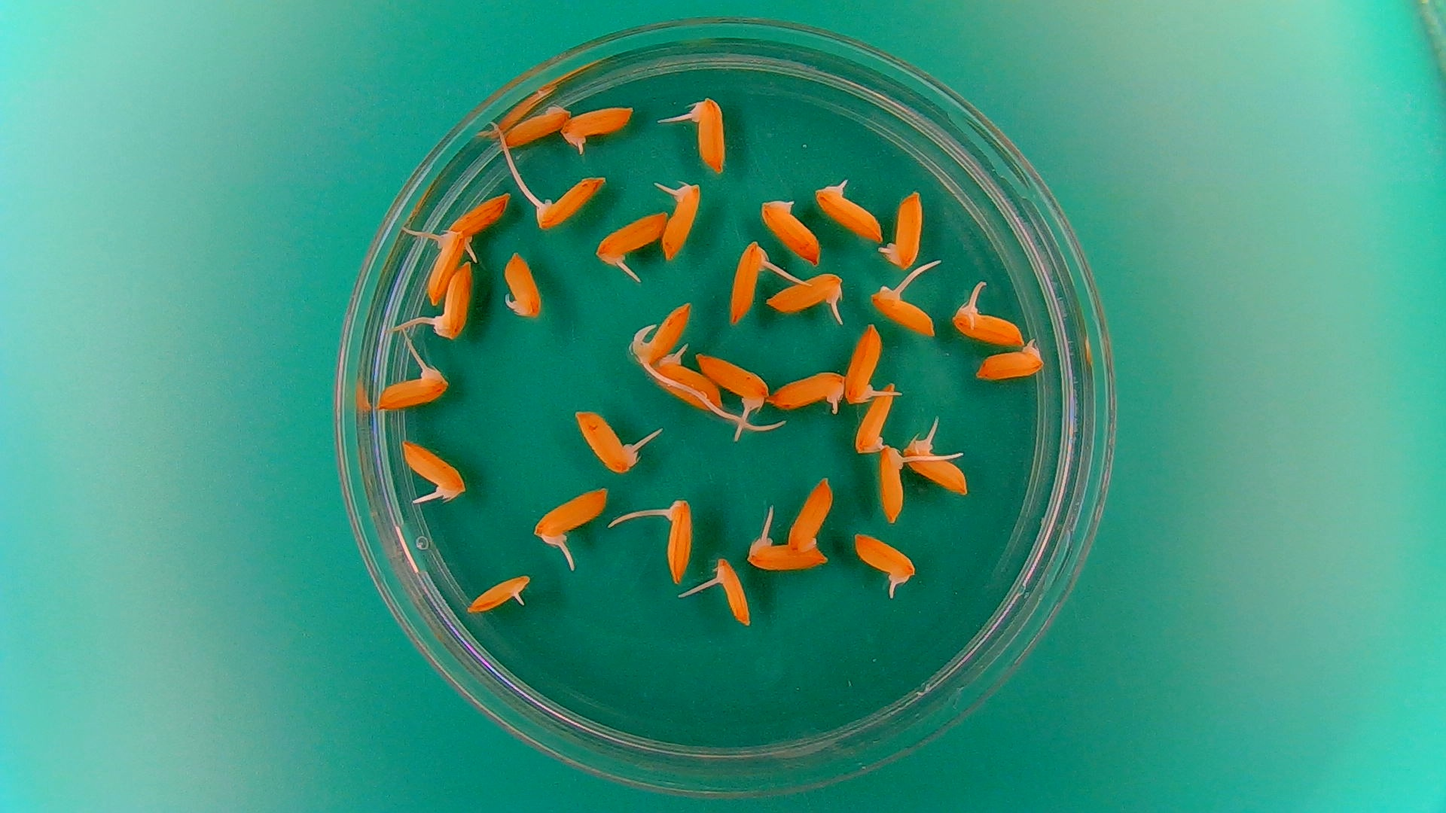no: (758, 193, 825, 264), (787, 473, 835, 557), (499, 100, 575, 148), (854, 385, 899, 456)
yes: (694, 349, 772, 415), (630, 299, 695, 366), (813, 180, 883, 242), (396, 437, 466, 499), (536, 483, 612, 540), (652, 349, 723, 410), (571, 411, 636, 475), (534, 176, 609, 231), (594, 208, 669, 263), (904, 437, 970, 498), (877, 187, 924, 269), (851, 529, 914, 588), (766, 367, 846, 413), (764, 269, 844, 314), (868, 287, 935, 339), (746, 531, 830, 572), (844, 320, 885, 403), (377, 365, 447, 413), (687, 96, 729, 175), (559, 102, 633, 146), (446, 190, 511, 240), (725, 236, 763, 321), (423, 231, 466, 305), (975, 338, 1047, 382), (660, 178, 700, 257), (431, 265, 474, 337), (464, 571, 533, 615), (660, 497, 693, 585), (949, 308, 1023, 347), (877, 440, 911, 522), (505, 255, 544, 323), (713, 561, 749, 626)
